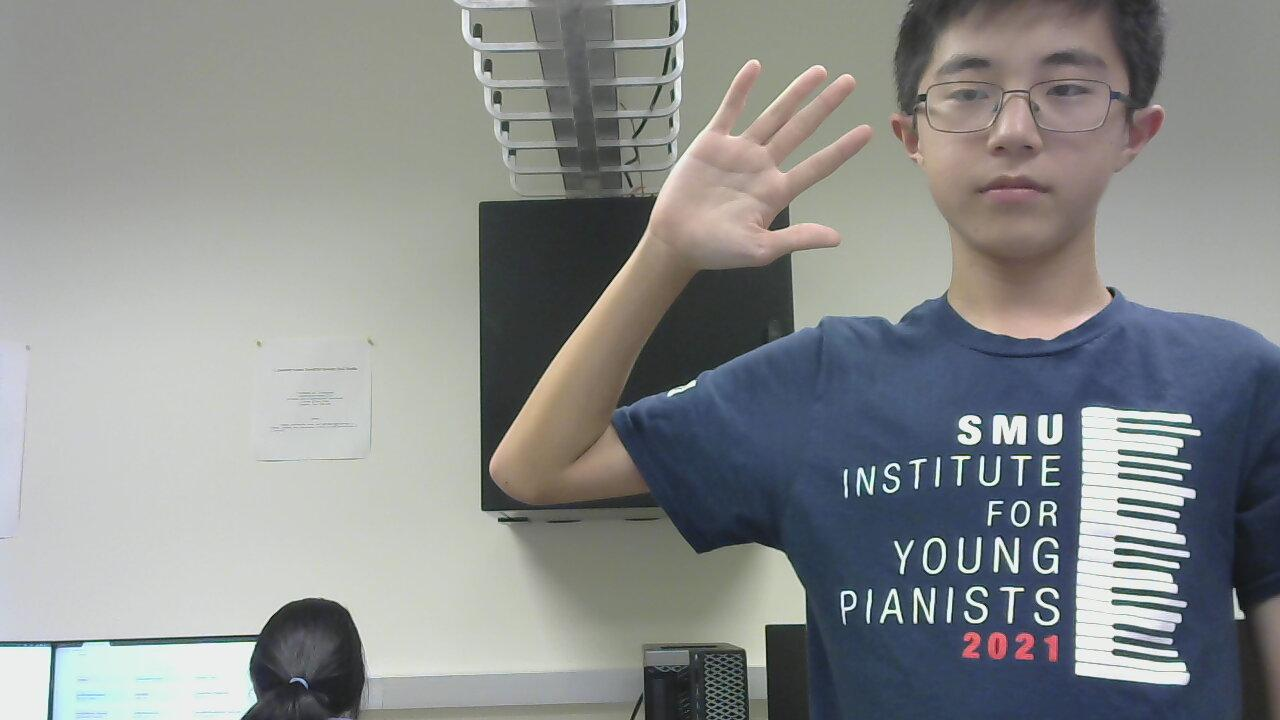hands: (646, 49, 857, 275)
